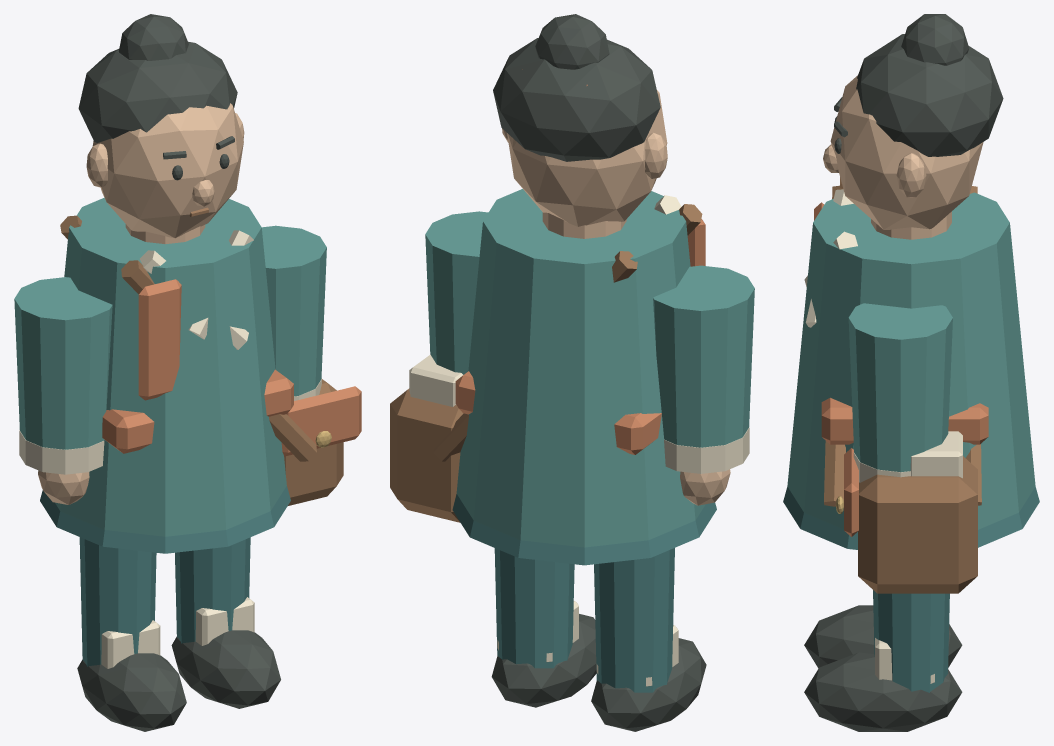
Rendered from player.glb.
3 views of the same model, side by side, from view 1: azimuth 30°, elevation 25°; view 2: azimuth 150°, elevation 25°; view 3: azimuth 270°, elevation 25° (orthographic). The views are drawn at different scales.
Visible parts, largest first — view 1: player_body_traveler_jade, player_arm_left_traveler_jade, player_head_traveler_skin, player_head_traveler_ink, player_body_traveler_rust, player_arm_right_traveler_jade, player_leg_left_traveler_deep_jade, player_leg_right_traveler_ink, player_leg_left_traveler_ink, player_leg_right_traveler_deep_jade, player_body_traveler_leather, player_body_traveler_deep_jade (+6 smaller); view 2: player_body_traveler_jade, player_head_traveler_ink, player_arm_left_traveler_jade, player_leg_left_traveler_deep_jade, player_head_traveler_skin, player_body_traveler_leather, player_leg_right_traveler_deep_jade, player_arm_right_traveler_jade, player_body_traveler_deep_jade, player_leg_left_traveler_ink, player_leg_right_traveler_ink, player_body_traveler_rust (+4 smaller); view 3: player_body_traveler_jade, player_body_traveler_leather, player_arm_right_traveler_jade, player_head_traveler_ink, player_head_traveler_skin, player_leg_right_traveler_ink, player_leg_right_traveler_deep_jade, player_body_traveler_rust, player_leg_left_traveler_ink, player_body_traveler_deep_jade, player_body_traveler_linen, player_body_traveler_skin (+2 smaller).
Boxes of the visible parts, x1,y1,x2,y2 form: player_body_traveler_jade: [55, 197, 286, 536]; player_arm_left_traveler_jade: [14, 277, 112, 449]; player_head_traveler_skin: [86, 103, 244, 238]; player_head_traveler_ink: [78, 14, 237, 180]; player_body_traveler_rust: [102, 279, 361, 456]; player_arm_right_traveler_jade: [261, 225, 326, 396]; player_leg_left_traveler_deep_jade: [79, 537, 156, 666]; player_leg_right_traveler_ink: [171, 630, 280, 708]; player_leg_left_traveler_ink: [77, 653, 186, 731]; player_leg_right_traveler_deep_jade: [175, 537, 250, 643]; player_body_traveler_leather: [60, 215, 343, 505]; player_body_traveler_deep_jade: [40, 486, 290, 553]; player_body_traveler_jade: [456, 189, 705, 547]; player_head_traveler_ink: [493, 14, 660, 161]; player_arm_left_traveler_jade: [653, 265, 754, 447]; player_leg_left_traveler_deep_jade: [594, 548, 674, 692]; player_head_traveler_skin: [502, 90, 667, 226]; player_body_traveler_leather: [390, 204, 702, 522]; player_leg_right_traveler_deep_jade: [494, 548, 574, 668]; player_arm_right_traveler_jade: [425, 211, 488, 374]; player_body_traveler_deep_jade: [452, 494, 716, 565]; player_leg_left_traveler_ink: [591, 638, 706, 731]; player_leg_right_traveler_ink: [491, 614, 596, 707]; player_body_traveler_rust: [455, 219, 705, 454]; player_body_traveler_jade: [787, 192, 1035, 532]; player_body_traveler_leather: [824, 185, 981, 593]; player_arm_right_traveler_jade: [848, 303, 952, 472]; player_head_traveler_ink: [834, 14, 1003, 156]; player_head_traveler_skin: [823, 75, 983, 229]; player_leg_right_traveler_ink: [804, 652, 962, 731]; player_leg_right_traveler_deep_jade: [873, 590, 949, 692]; player_body_traveler_rust: [814, 202, 988, 536]; player_leg_left_traveler_ink: [804, 605, 962, 668]; player_body_traveler_deep_jade: [783, 487, 1039, 549]; player_body_traveler_linen: [804, 189, 962, 478]; player_body_traveler_skin: [871, 211, 951, 239].
Bounding box in the file's own units: 0.872 × 1.78 × 0.6.
